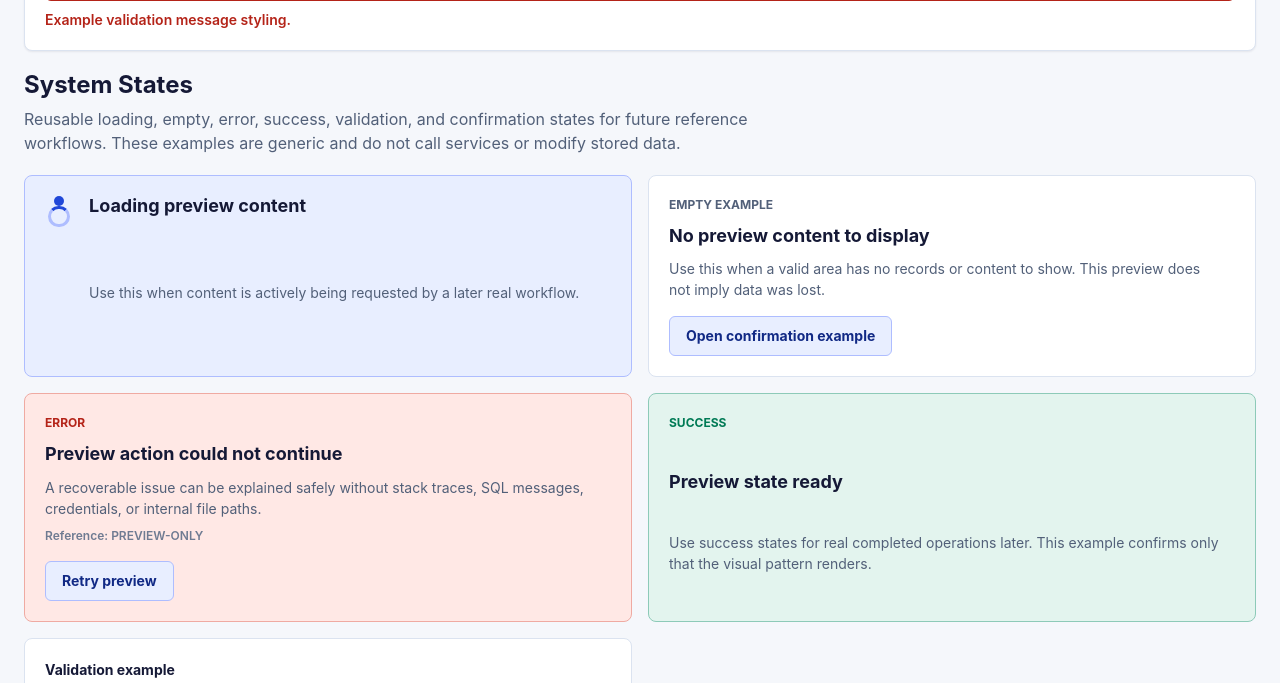
application routing foundation › renders design-system state previews and the harmless confirmation example
(page scrolled)
Check: the heading "System States" is shown, box 24,70 -> 193,99
Check: the heading "Loading preview content" is shown, box 89,194 -> 306,216
Click the button "Open confirmation example" at (781, 336), box 669,316 -> 892,356
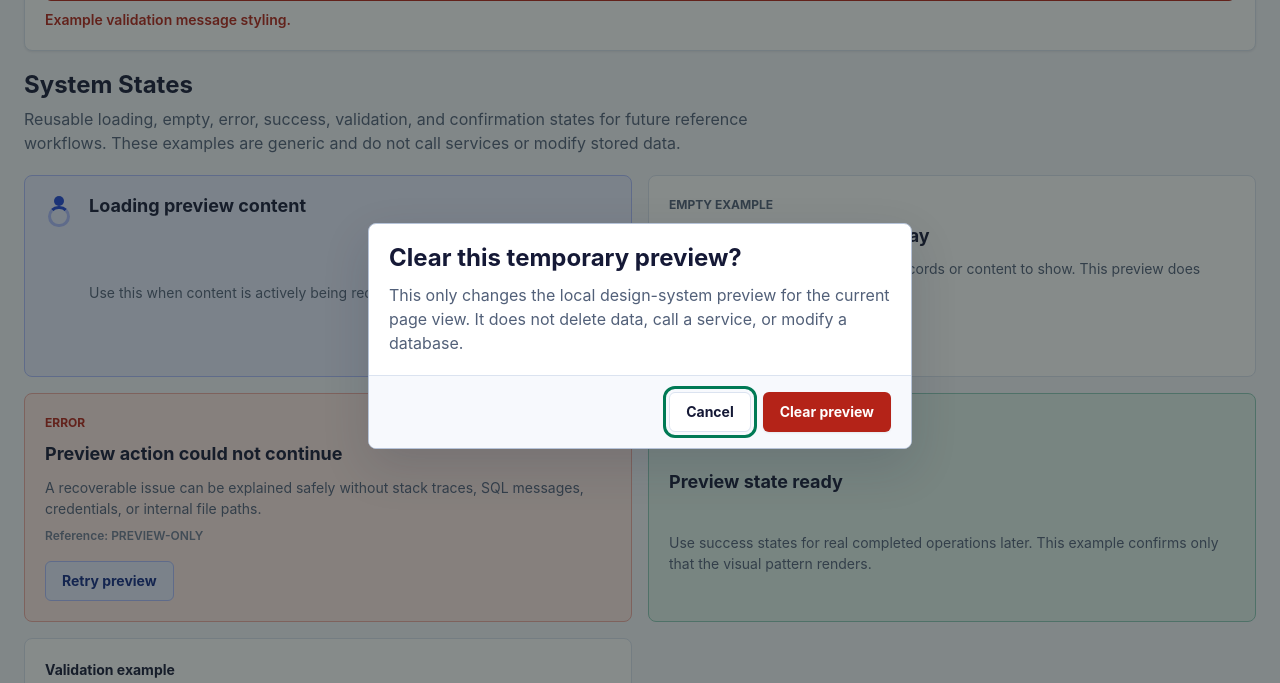
Check: the text "does not delete data" is shown, box 389,285 -> 890,353
Click the button "Cancel" at (710, 412), box 669,392 -> 751,432
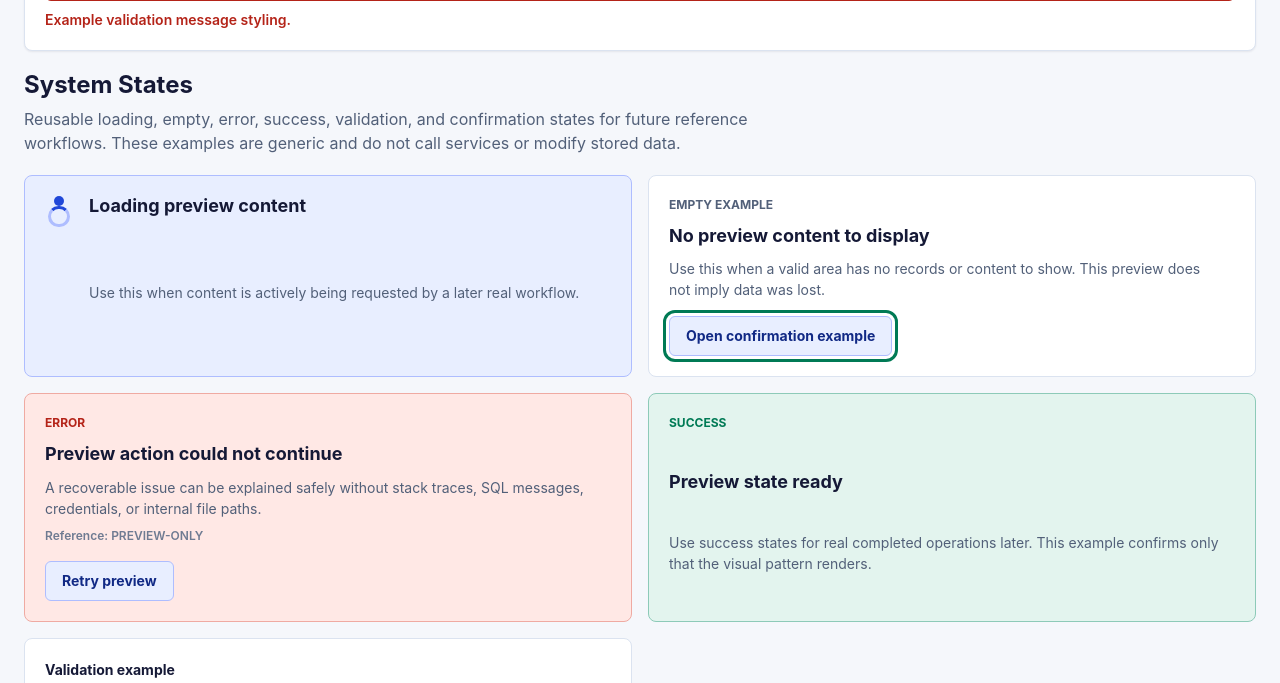
Check: the dialog is gone
Click the button "Open confirmation example" at (781, 336), box 669,316 -> 892,356
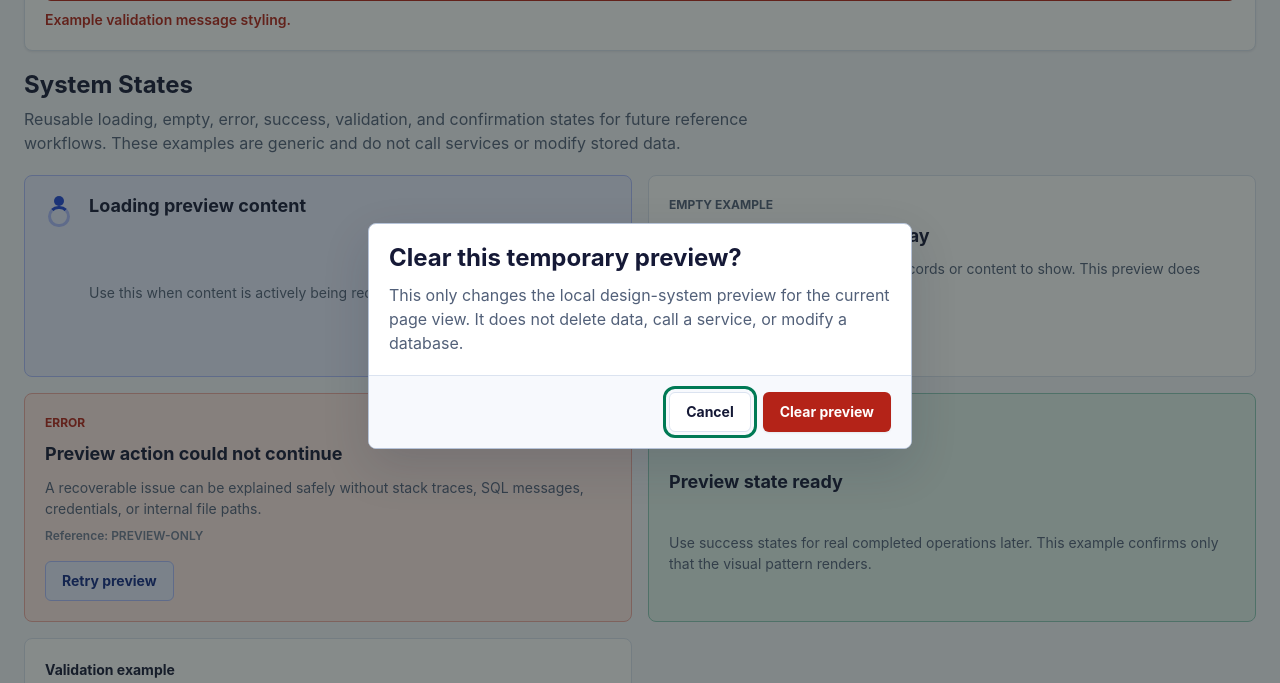
Click the button "Clear preview" at (827, 412), box 763,392 -> 891,432
(page scrolled)
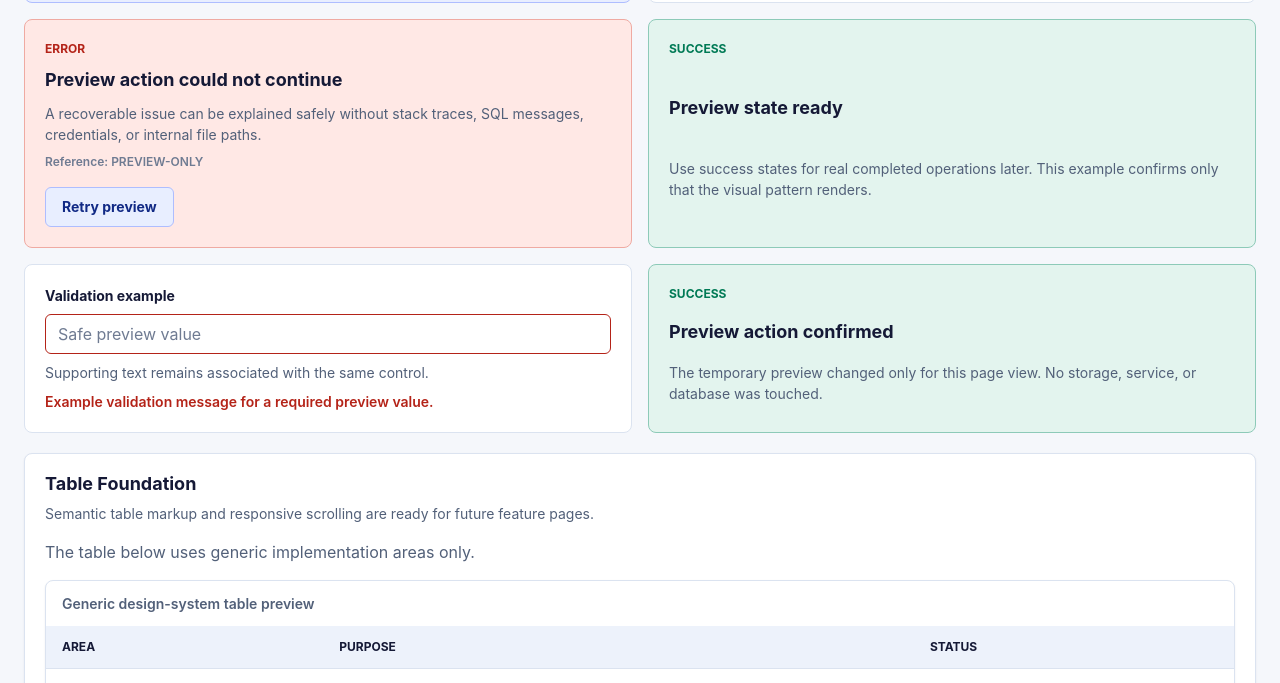
Check: the heading "Preview action confirmed" is shown, box 669,321 -> 894,342
